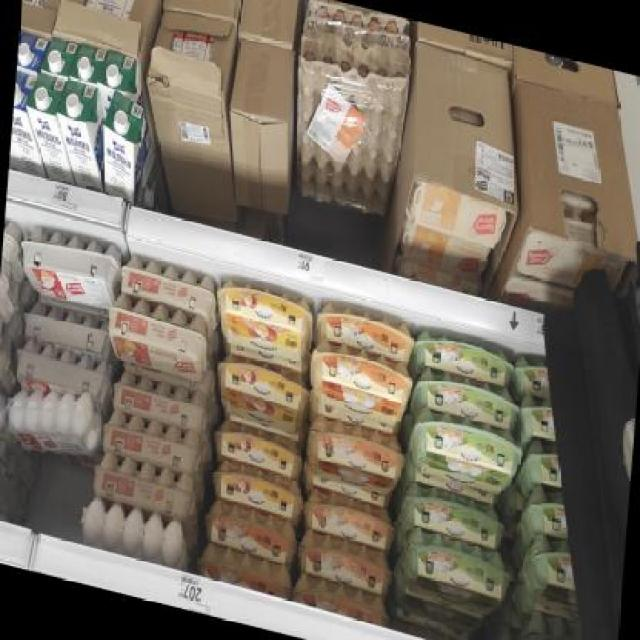Egg: (406, 405, 525, 500), (399, 527, 513, 621), (18, 221, 124, 316), (105, 292, 212, 386), (308, 337, 415, 429), (213, 272, 316, 365), (304, 412, 407, 499), (213, 353, 310, 435), (398, 480, 505, 552), (91, 449, 195, 522), (414, 365, 520, 432), (100, 406, 203, 474), (297, 527, 394, 596), (314, 297, 415, 363), (118, 251, 219, 317), (203, 499, 300, 566), (112, 368, 210, 434), (302, 486, 398, 552), (414, 327, 514, 388), (211, 458, 306, 520), (292, 572, 393, 630), (212, 418, 306, 479), (196, 544, 293, 601), (518, 532, 582, 616), (397, 591, 481, 635), (519, 482, 572, 541), (517, 608, 601, 640), (516, 389, 558, 446), (522, 439, 566, 492), (512, 353, 552, 405)
